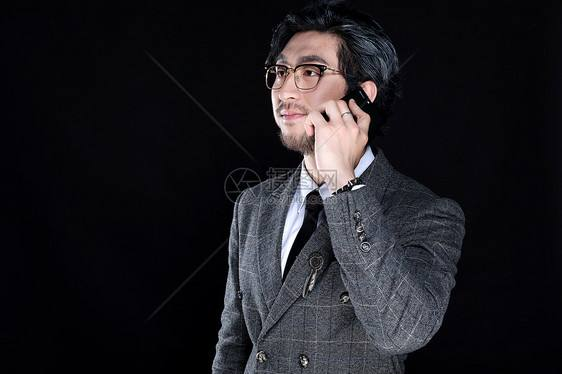calling: (302, 84, 377, 178)
